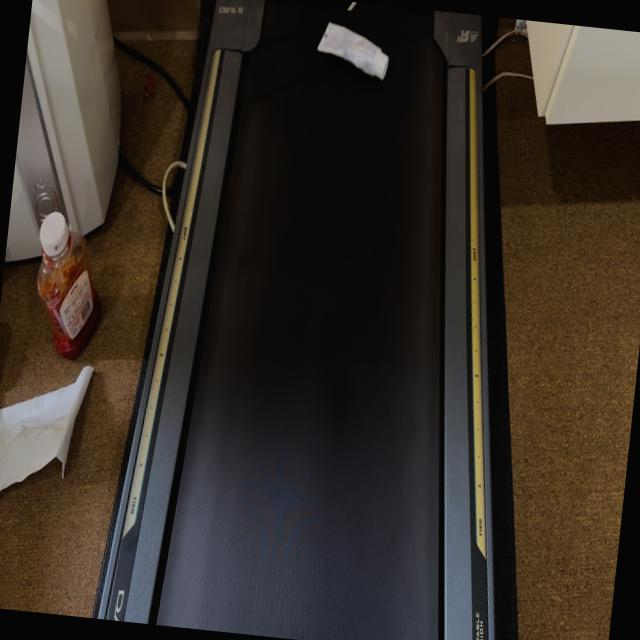Trash: (314, 9, 401, 94)
